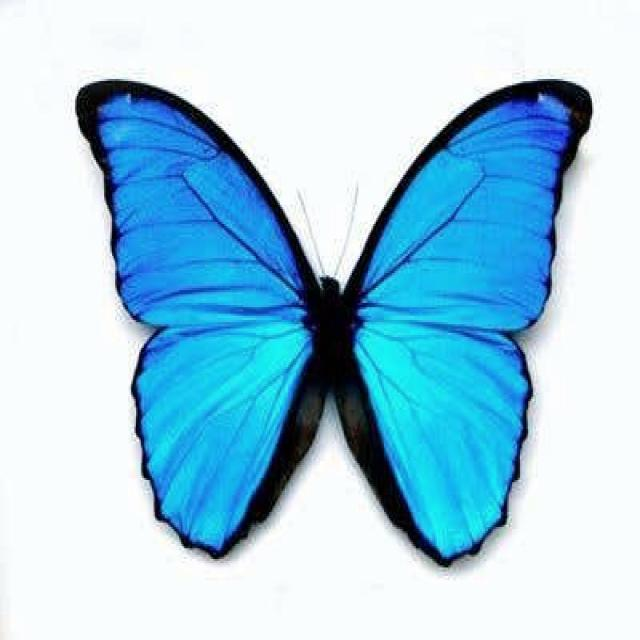butterfly: (75, 81, 587, 563)
